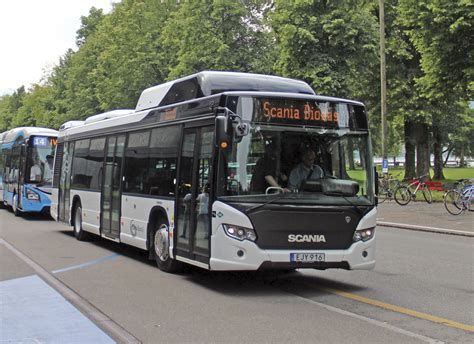bus: (54, 90, 375, 271), (1, 129, 51, 214)
